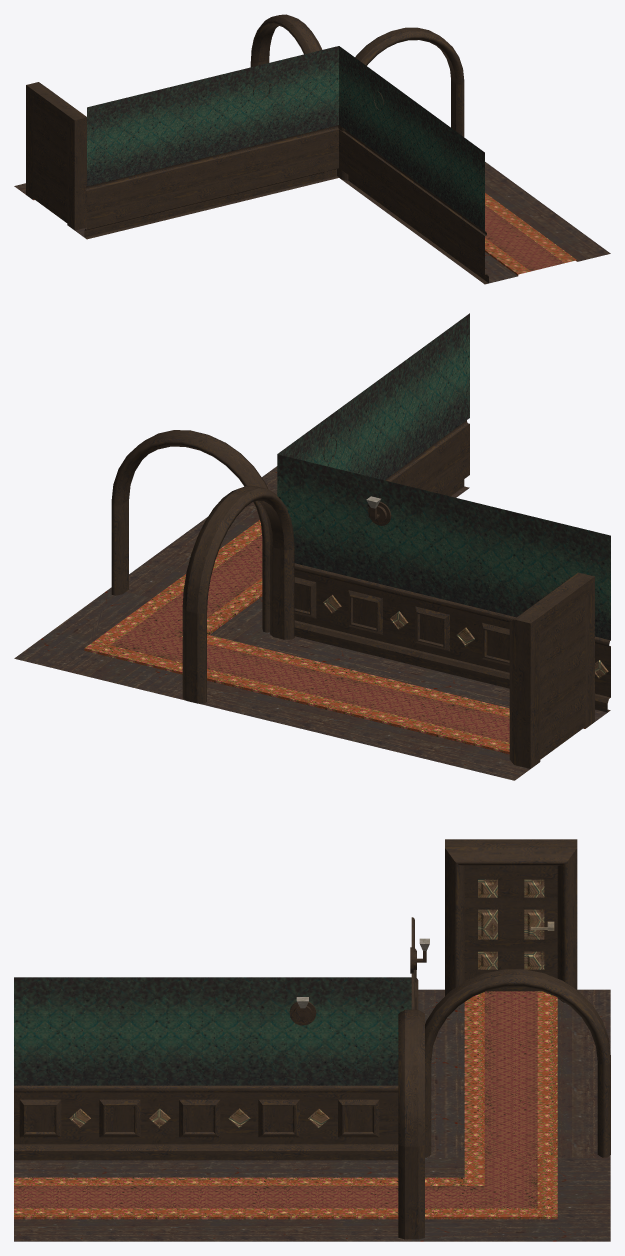
Rendered from hallway_diorama.glb.
3 renders of one model, top to bottom at view 1: azimuth 30°, elevation 25°; view 2: azimuth 150°, elevation 25°; view 3: azimuth 270°, elevation 25°, orthographic. The views are drawn at different scales.
Visible parts, largest first — view 1: Floor2, Floor1, DoorFrame, Door, Archway, Archway1; view 2: Floor2, Floor1, Floor3, Archway1, DoorFrame, Archway, Door; view 3: Floor1, Floor2, Floor3, Door, DoorFrame, Archway1, Archway, Lamp.
Part boxes in pixels (box(x1,y1,x2,y2)): Floor2: box(14, 46, 338, 239); Floor1: box(339, 46, 610, 284); DoorFrame: box(26, 82, 86, 230); Door: box(33, 103, 67, 222); Archway: box(337, 27, 464, 180); Archway1: box(250, 14, 332, 179); Floor2: box(181, 454, 610, 780); Floor1: box(110, 313, 469, 624); Floor3: box(14, 588, 269, 699); Archway1: box(182, 485, 294, 703); DoorFrame: box(509, 572, 594, 768); Archway: box(111, 430, 269, 632); Door: box(540, 601, 585, 759); Floor1: box(14, 977, 411, 1241); Floor2: box(411, 917, 610, 1157); Floor3: box(411, 1155, 610, 1241); Door: box(464, 865, 557, 991); DoorFrame: box(445, 839, 577, 1002); Archway1: box(425, 969, 610, 1157); Archway: box(398, 1009, 424, 1239); Lamp: box(289, 997, 316, 1025).
Size of the model in its own units: 9 by 3.01 by 9.01.
5 materials, 5 textured.
